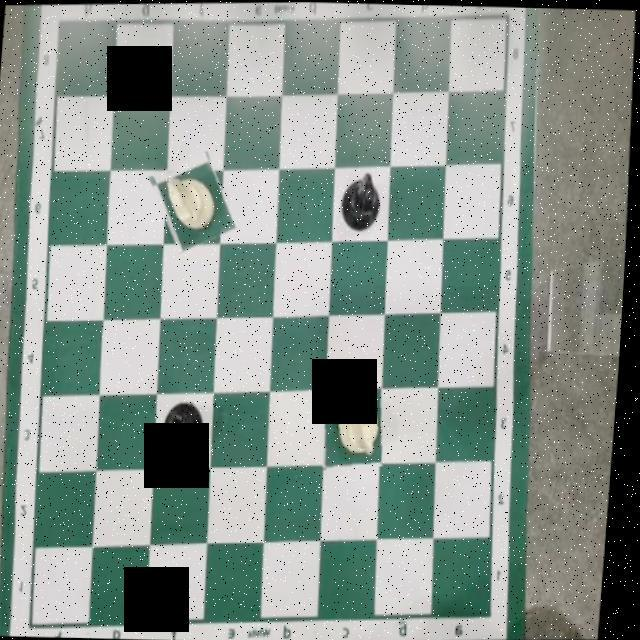chess-table-corners: (477, 593, 510, 636), (487, 8, 519, 36), (48, 8, 77, 38), (24, 616, 51, 636)
